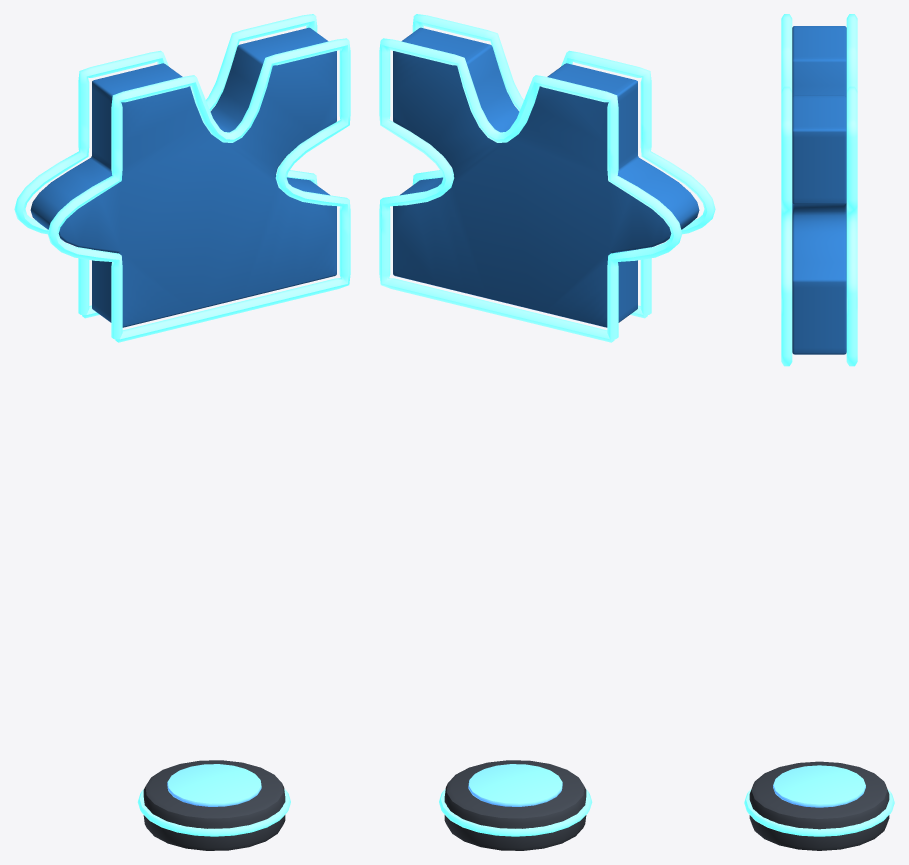
File: placa_quebra_cabeca.glb
3 views of the same model, side by side, from view 1: azimuth 30°, elevation 25°; view 2: azimuth 150°, elevation 25°; view 3: azimuth 270°, elevation 25° (orthographic).
Visible parts, largest first — view 1: peca_flutuante, placa_quebra_cabeca; view 2: peca_flutuante, placa_quebra_cabeca; view 3: peca_flutuante, placa_quebra_cabeca.
Boxes of the visible parts, x1,y1,x2,y2 form: peca_flutuante: [14, 14, 350, 342]; placa_quebra_cabeca: [137, 760, 290, 850]; peca_flutuante: [379, 14, 715, 342]; placa_quebra_cabeca: [439, 760, 592, 850]; peca_flutuante: [781, 14, 857, 366]; placa_quebra_cabeca: [744, 761, 894, 850].
Size of the model in its own units: 4.38 by 10.72 by 1.94.
3 materials, 1 textured.
